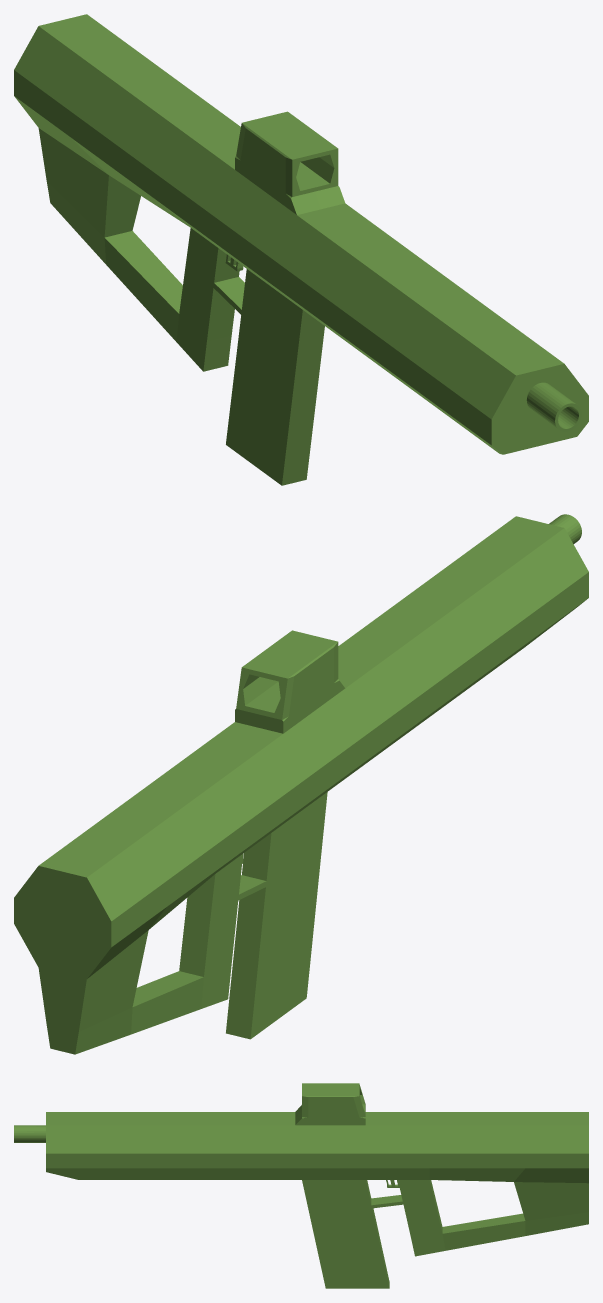
File: SmartGun.fbx
3 views of the same model, one above another, from view 1: azimuth 30°, elevation 25°; view 2: azimuth 150°, elevation 25°; view 3: azimuth 270°, elevation 25° (orthographic). The views are drawn at different scales.
Visible parts, largest first — view 1: Cube; view 2: Cube; view 3: Cube.
Part boxes in pixels (x1=…): Cube: x1=14, y1=14, x2=588, y2=485; Cube: x1=14, y1=514, x2=588, y2=1054; Cube: x1=14, y1=1083, x2=588, y2=1288.
Size of the model in its own units: 200 by 675 by 1799.
